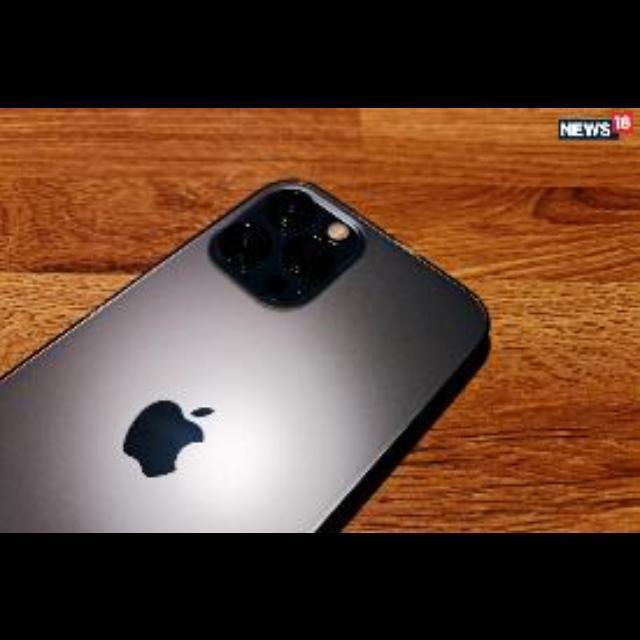Mobile: (2, 175, 493, 533)
